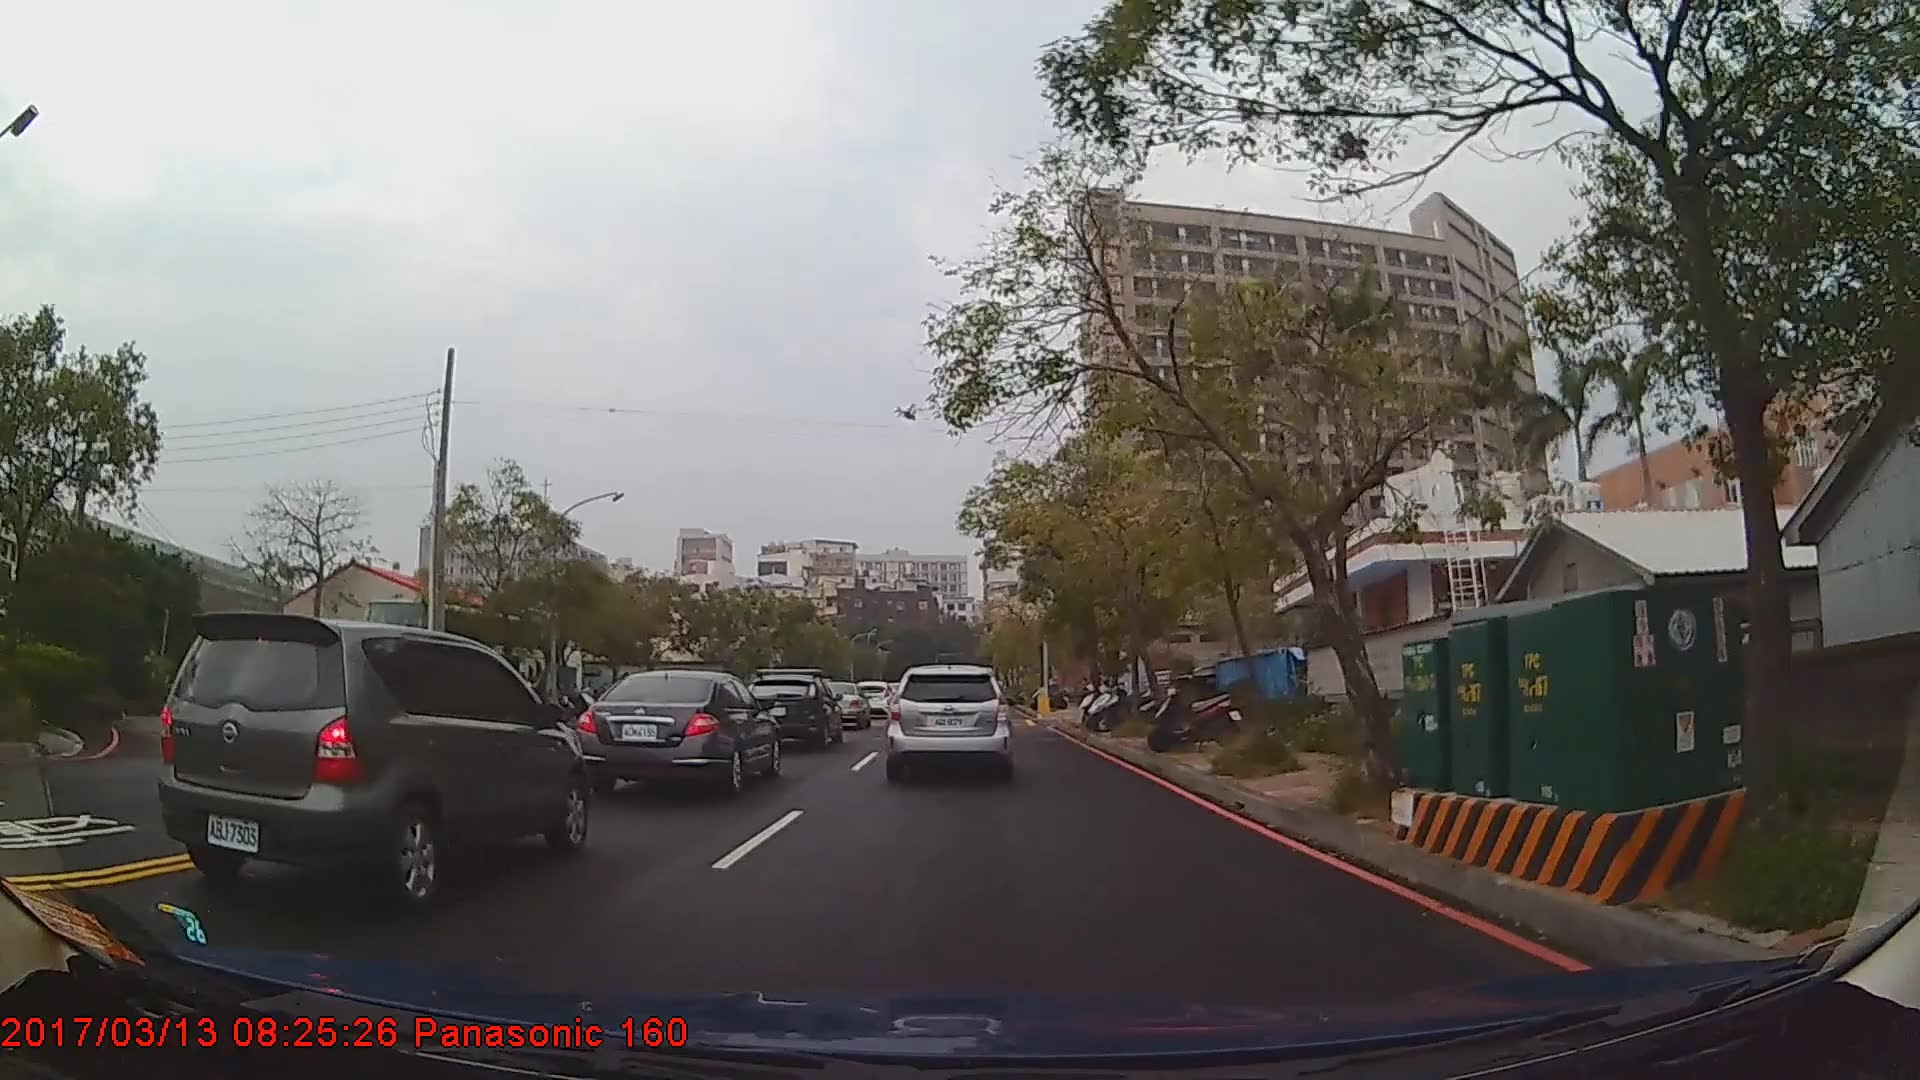vehicle: (154, 613, 588, 911), (578, 669, 783, 799), (884, 667, 1013, 783), (740, 673, 844, 749), (815, 680, 869, 729), (851, 680, 895, 720)
